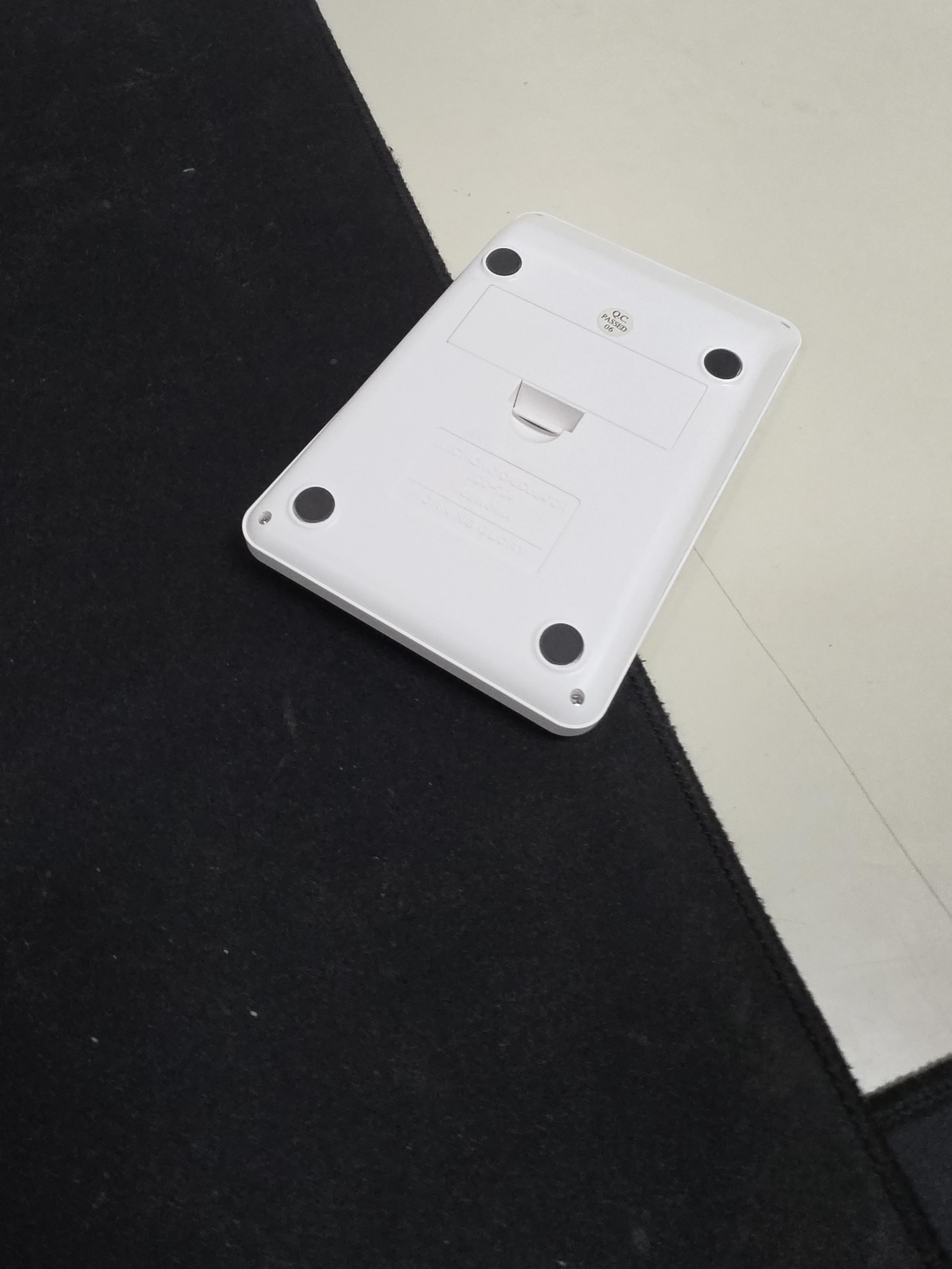calculator: (242, 212, 802, 737)
